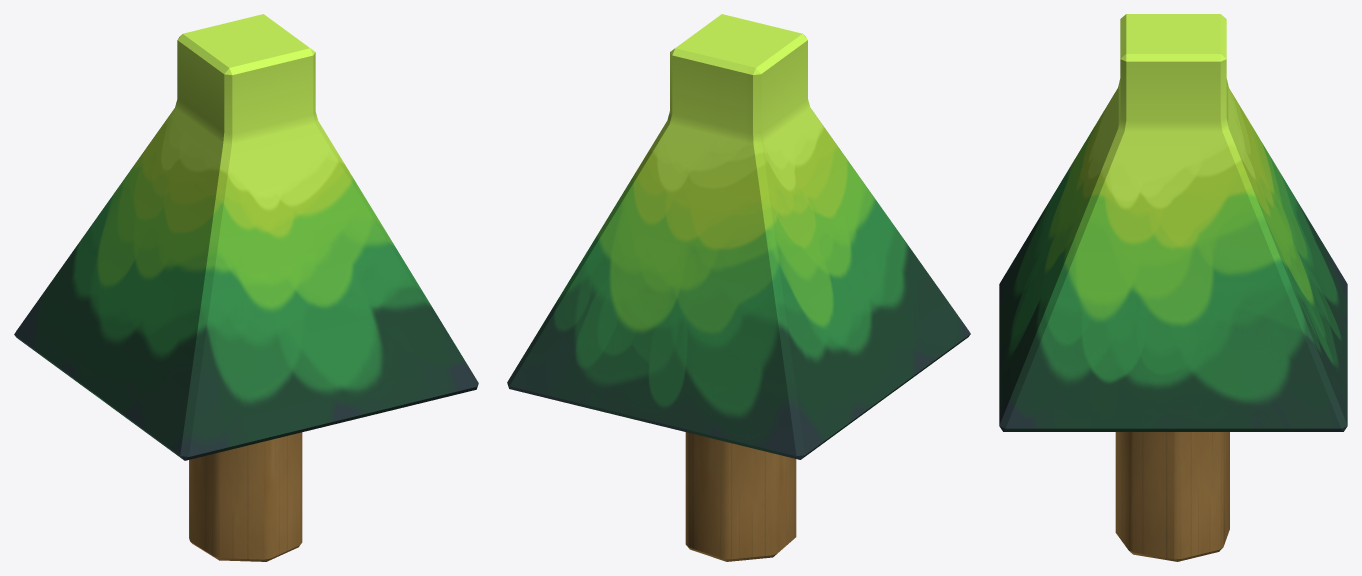
The model's file is wood.FBX.
3 views of the same model, side by side, from view 1: azimuth 30°, elevation 25°; view 2: azimuth 150°, elevation 25°; view 3: azimuth 270°, elevation 25° (orthographic).
Visible parts, largest first — view 1: Cylinder001; view 2: Cylinder001; view 3: Cylinder001.
Part boxes in pixels (bbox=[...]): Cylinder001: bbox=[14, 14, 478, 561]; Cylinder001: bbox=[507, 14, 970, 561]; Cylinder001: bbox=[999, 14, 1347, 561].
Size of the model in its own units: 25.86 by 41.33 by 25.86.
Materials: 2 (2 with a texture image).
